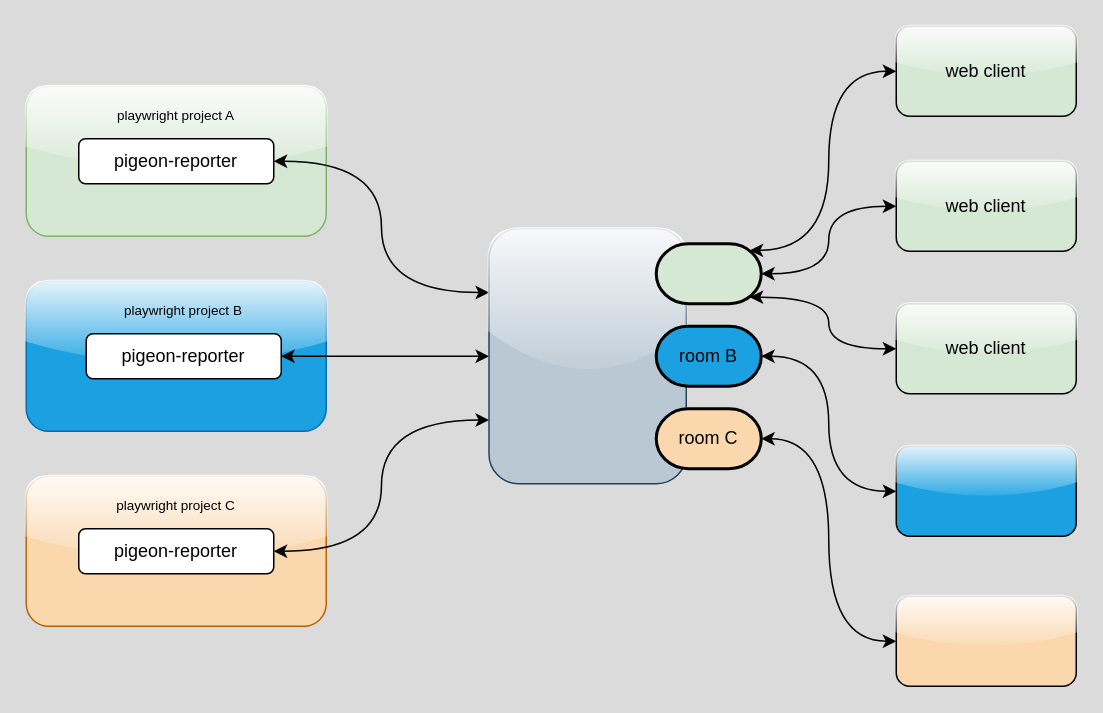
Some shapes in this 1103 by 713 pixel diagram are drawn without their labels. Here are the shapes that lost their labels. From the top down, the centre of each, then its label:
point (708, 273): room A
point (587, 355): pigeon-server
point (985, 490): database client
point (985, 640): api client
